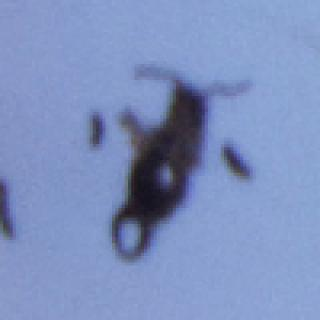earwig: (108, 58, 254, 266)
